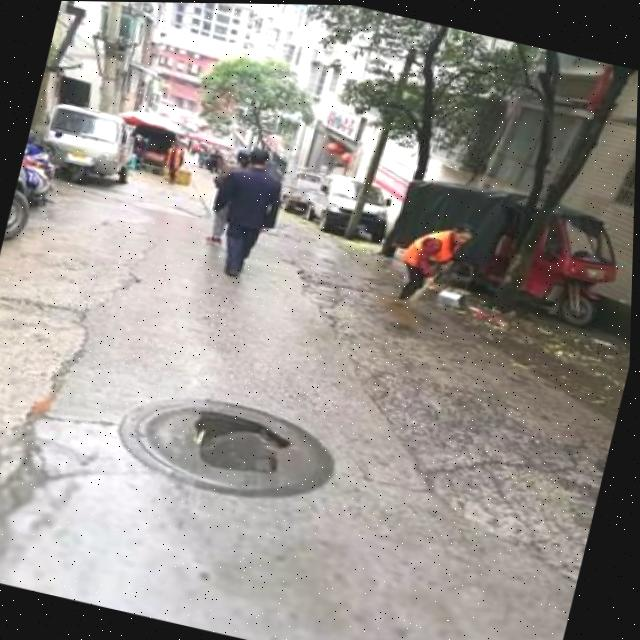manhole: (96, 370, 354, 514)
